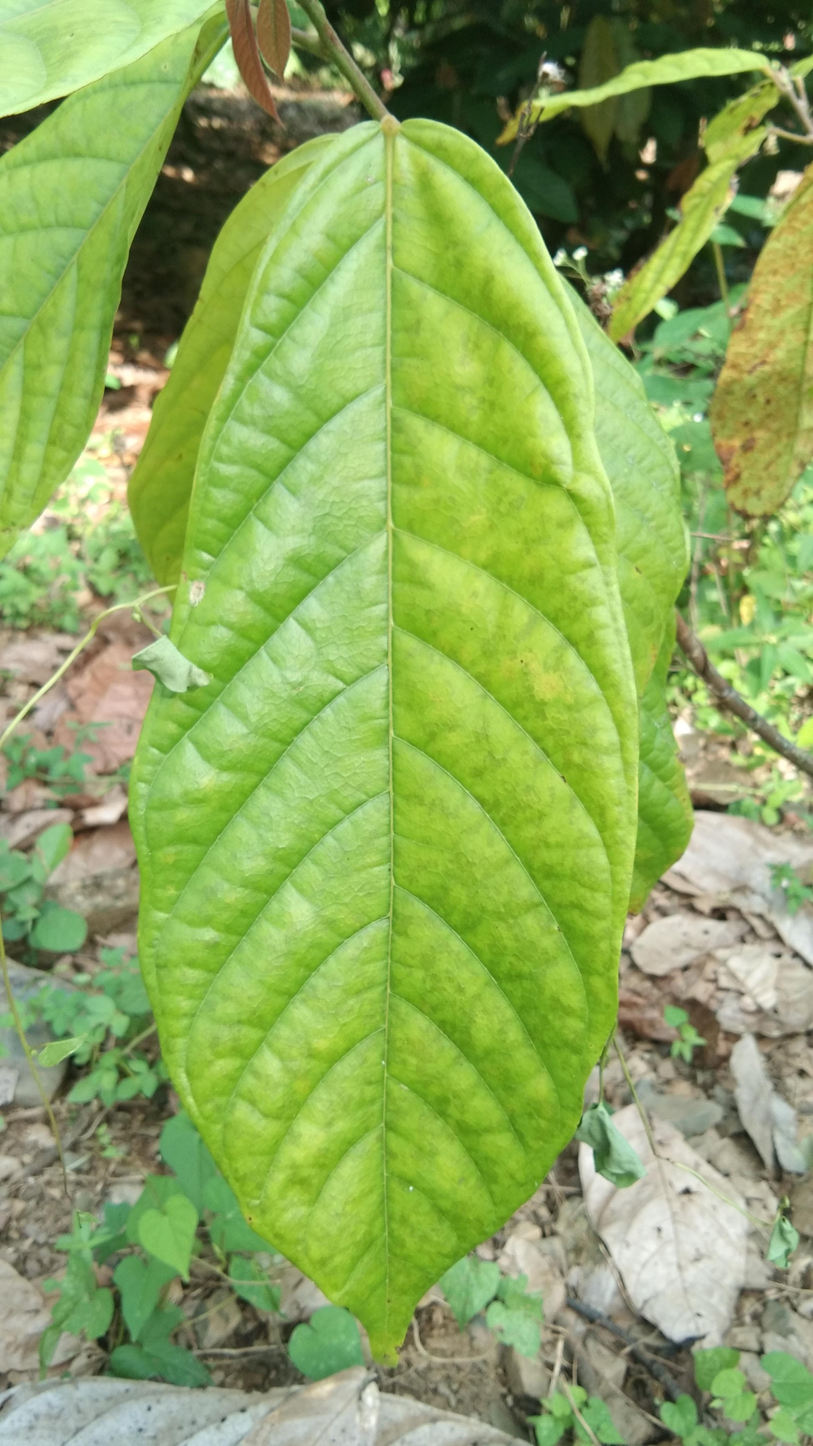deficiencia_potasio: (115, 122, 605, 1349)
